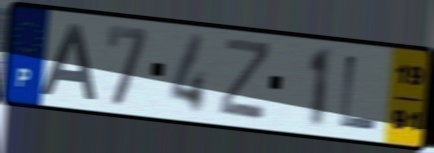1: (306, 44, 338, 133)
4: (166, 31, 210, 119)
7: (104, 23, 151, 109)
A: (36, 20, 99, 102)
L: (337, 52, 381, 133)
Z: (216, 36, 274, 124)
